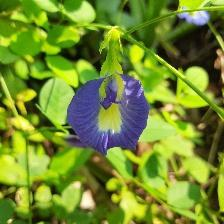shankupushpam: (67, 26, 150, 158)
